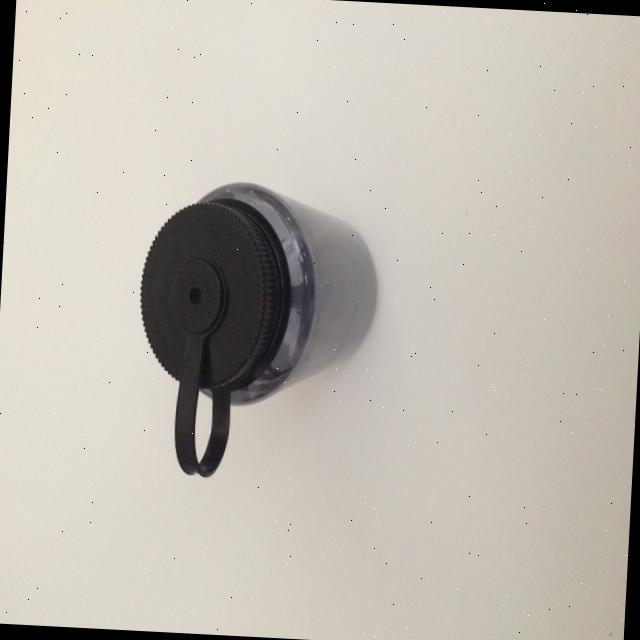plastic: (130, 174, 383, 486)
